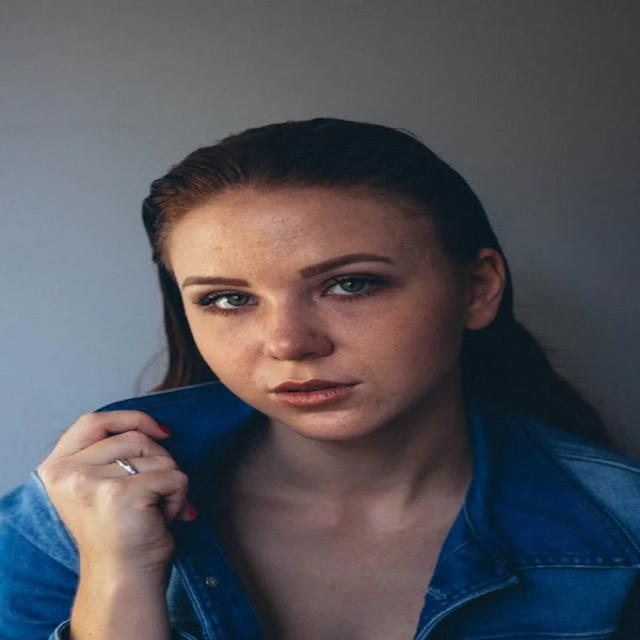no_mask: (148, 182, 516, 458)
